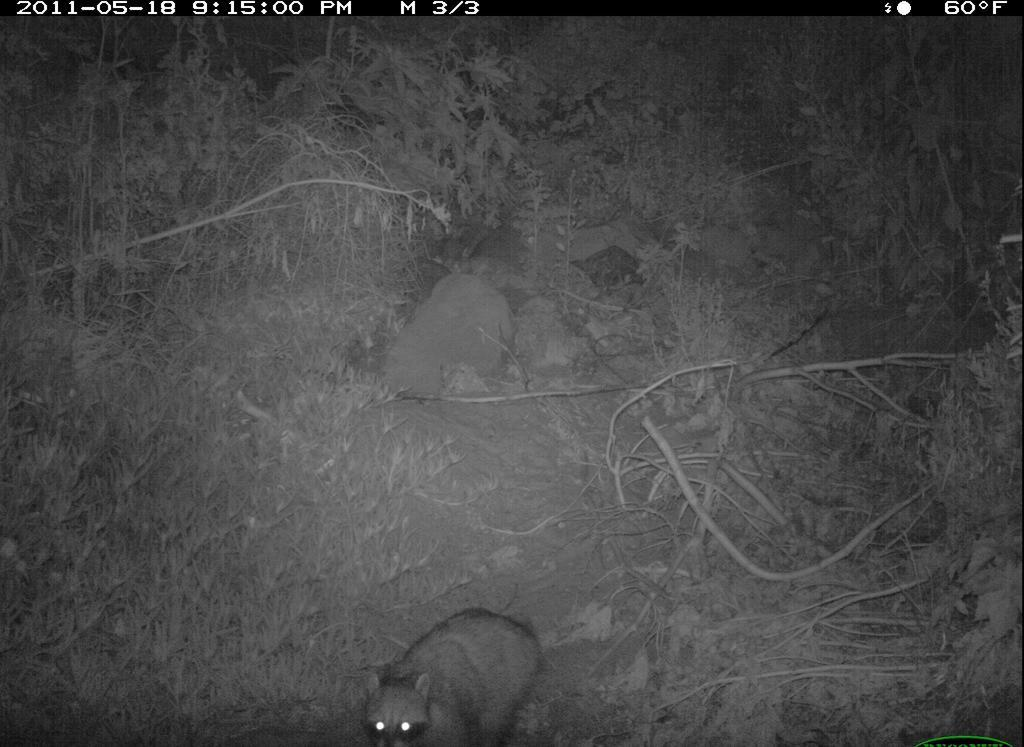raccoon: (349, 602, 548, 745)
